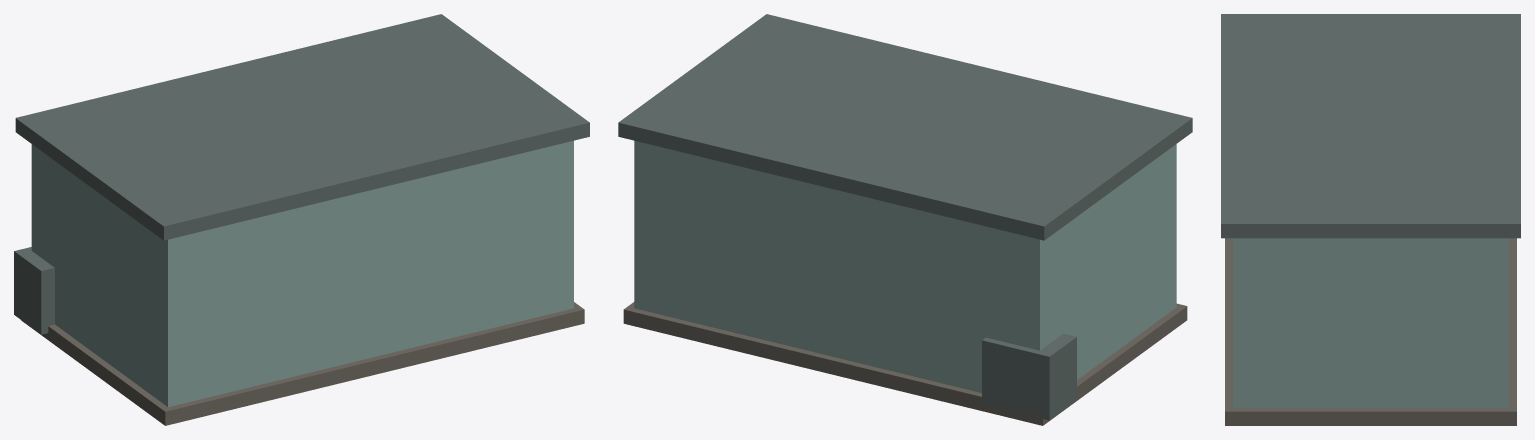
Rendered from Climate-controlled-greenhouse.glb.
The picture shows the model from 3 angles, left to right: view 1: azimuth 30°, elevation 25°; view 2: azimuth 150°, elevation 25°; view 3: azimuth 270°, elevation 25°; orthographic projection.
Visible parts, largest first — view 1: climate-controlled-greenhouse-static-greenhouse-glass, climate-controlled-greenhouse-static-greenhouse-frame, climate-controlled-greenhouse-static-greenhouse-stone; view 2: climate-controlled-greenhouse-static-greenhouse-glass, climate-controlled-greenhouse-static-greenhouse-frame, climate-controlled-greenhouse-static-greenhouse-stone; view 3: climate-controlled-greenhouse-static-greenhouse-frame, climate-controlled-greenhouse-static-greenhouse-glass, climate-controlled-greenhouse-static-greenhouse-stone.
Boxes of the visible parts, left/top/right/bottom form: climate-controlled-greenhouse-static-greenhouse-glass: left=31, top=140, right=573, bottom=407; climate-controlled-greenhouse-static-greenhouse-frame: left=14, top=14, right=589, bottom=334; climate-controlled-greenhouse-static-greenhouse-stone: left=21, top=302, right=584, bottom=425; climate-controlled-greenhouse-static-greenhouse-glass: left=634, top=140, right=1176, bottom=392; climate-controlled-greenhouse-static-greenhouse-frame: left=618, top=14, right=1192, bottom=420; climate-controlled-greenhouse-static-greenhouse-stone: left=623, top=302, right=1187, bottom=425; climate-controlled-greenhouse-static-greenhouse-frame: left=1221, top=14, right=1520, bottom=238; climate-controlled-greenhouse-static-greenhouse-glass: left=1233, top=238, right=1508, bottom=408; climate-controlled-greenhouse-static-greenhouse-stone: left=1225, top=238, right=1516, bottom=425.
Size of the model in its own units: 6.35 by 2.85 by 3.8.
